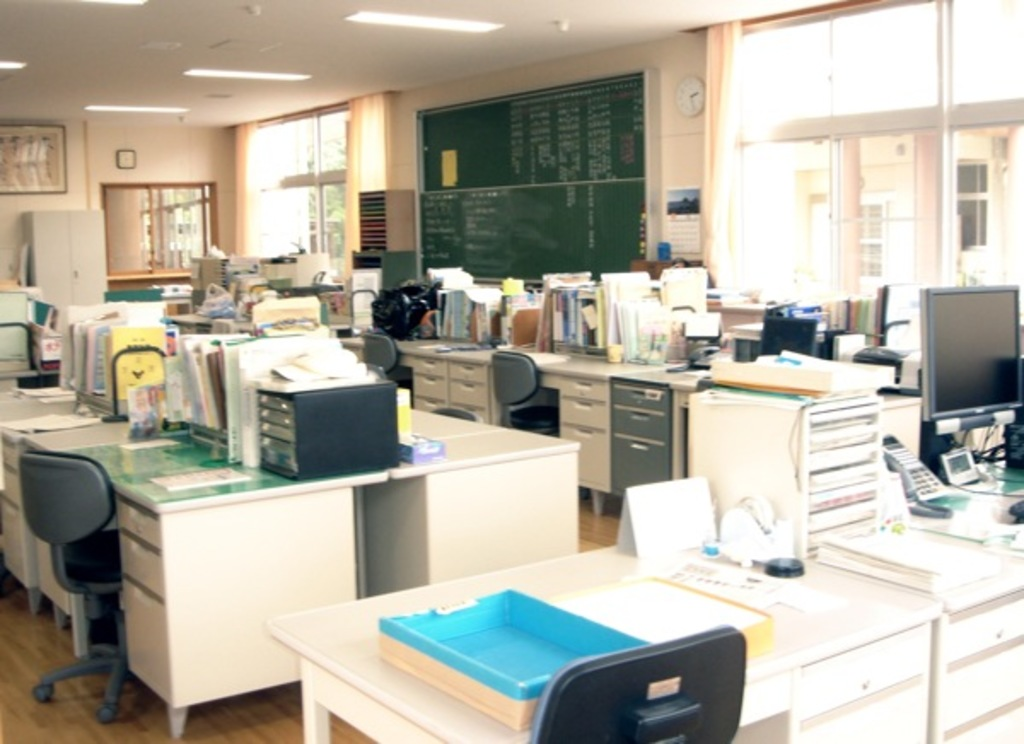cabinet door: (795, 650, 922, 689), (814, 707, 918, 744), (126, 586, 167, 679), (953, 668, 1024, 711), (69, 215, 101, 299), (939, 619, 1024, 650), (35, 213, 67, 290), (0, 503, 28, 577), (125, 541, 165, 586), (614, 440, 670, 472), (613, 407, 670, 435), (612, 380, 668, 408), (117, 509, 162, 537), (559, 400, 607, 420), (561, 379, 610, 397), (446, 384, 486, 405), (413, 376, 443, 399), (450, 364, 486, 381), (413, 360, 444, 374)
